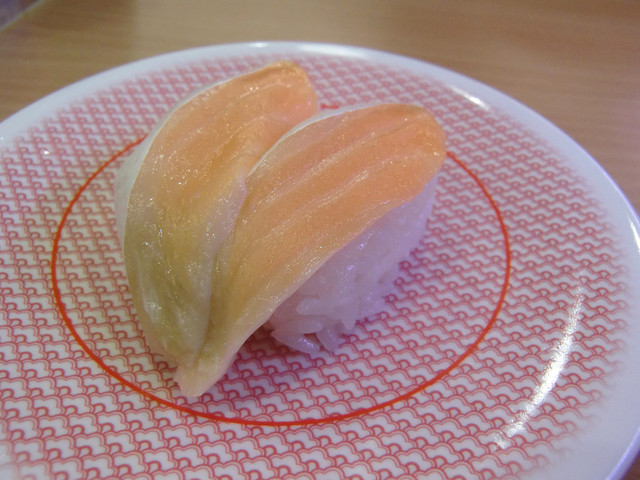salmon: (236, 106, 442, 333), (123, 63, 266, 339)
